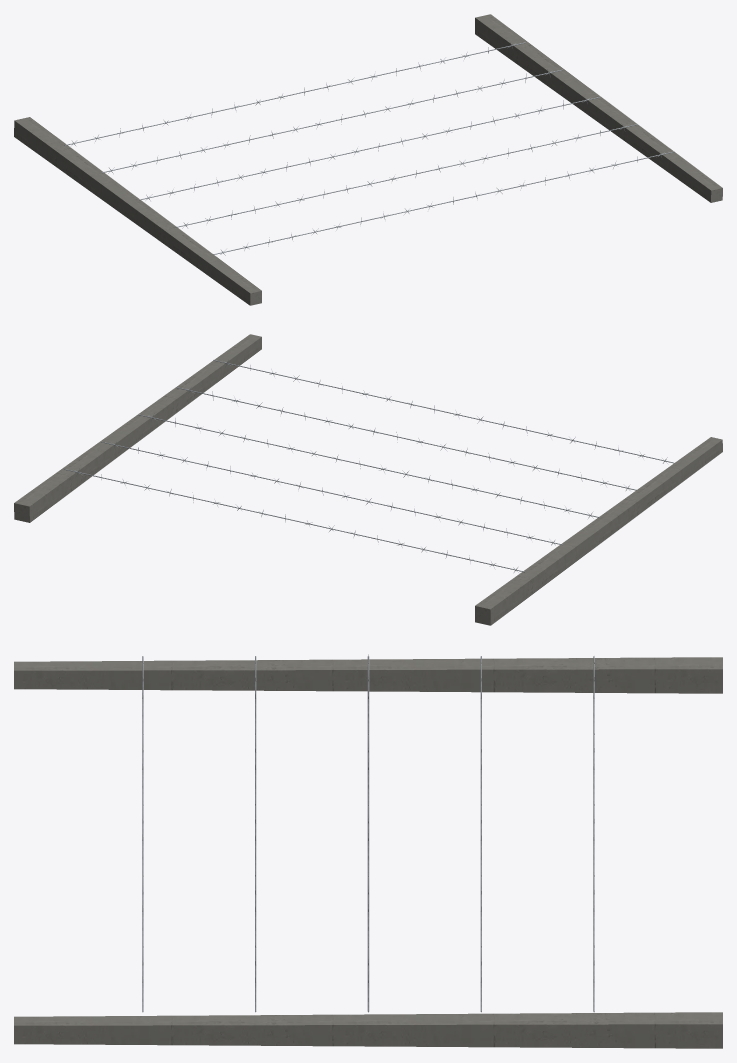
Rendered from PAV-MOB-005_anim.glb.
3 views of the same model, one above another, from view 1: azimuth 30°, elevation 25°; view 2: azimuth 150°, elevation 25°; view 3: azimuth 270°, elevation 25° (orthographic). The views are drawn at different scales.
Parts seen in each view (by area): view 1: PAV-MOB-005_anim0; view 2: PAV-MOB-005_anim0; view 3: PAV-MOB-005_anim0.
Part boxes in pixels (bbox=[...]): PAV-MOB-005_anim0: bbox=[14, 14, 722, 305]; PAV-MOB-005_anim0: bbox=[14, 334, 722, 625]; PAV-MOB-005_anim0: bbox=[14, 654, 722, 1048].
Bounding box in the file's own units: 2.59 × 0.1824 × 2.2.
Materials: 2 (2 with a texture image).
